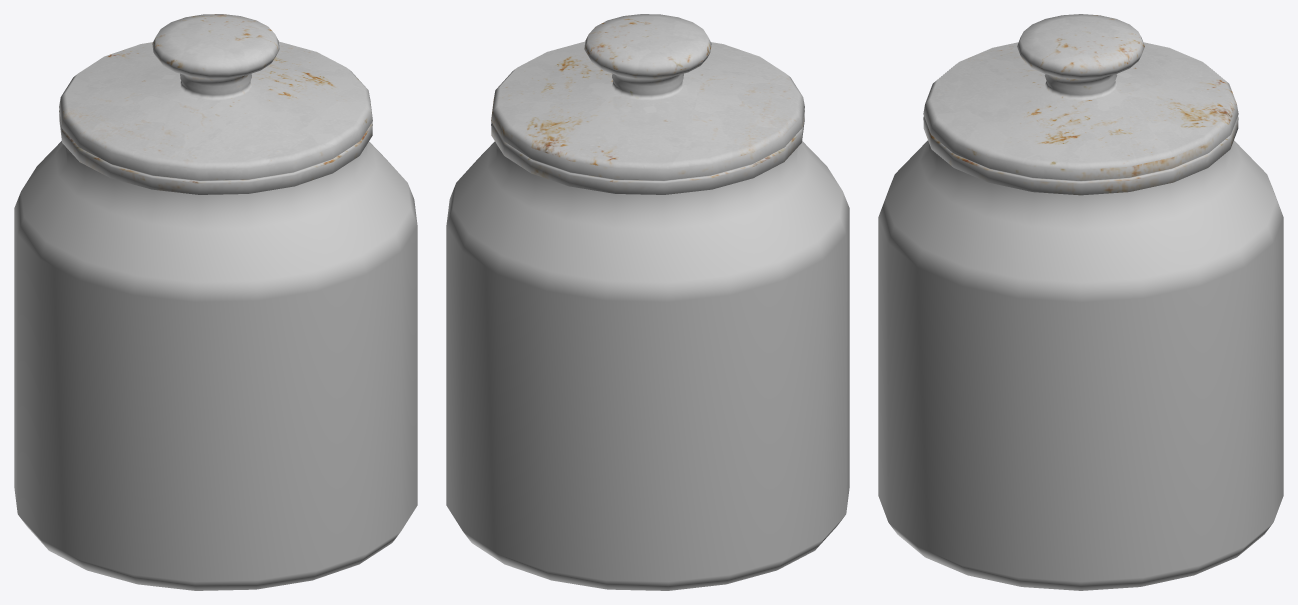
File: SM_KitchenGoods_A4.fbx
3 views of the same model, side by side, from view 1: azimuth 30°, elevation 25°; view 2: azimuth 150°, elevation 25°; view 3: azimuth 270°, elevation 25° (orthographic).
Parts seen in each view (by area): view 1: SM_KitchenGoods_A4; view 2: SM_KitchenGoods_A4; view 3: SM_KitchenGoods_A4.
Boxes of the visible parts, left/top/right/bottom form: SM_KitchenGoods_A4: left=14, top=14, right=417, bottom=590; SM_KitchenGoods_A4: left=446, top=14, right=849, bottom=590; SM_KitchenGoods_A4: left=878, top=14, right=1283, bottom=590.
Size of the model in its own units: 13.3 by 13.3 by 17.75.
Materials: 3 (2 with a texture image).
